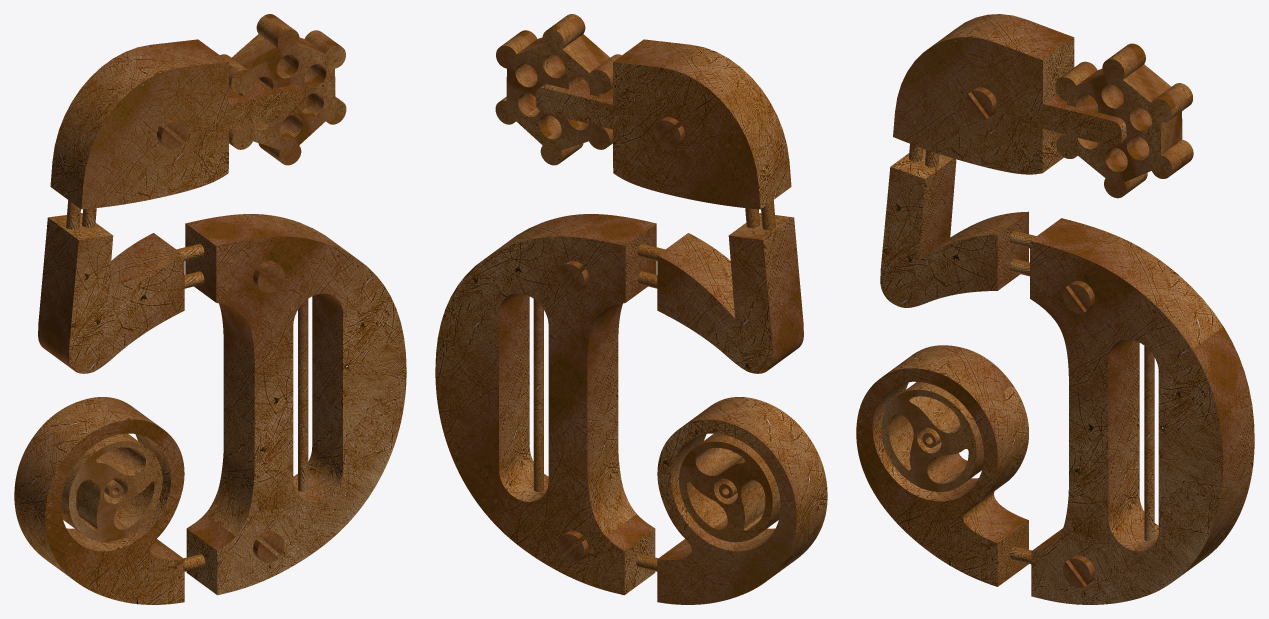
The picture shows the model from 3 angles, left to right: view 1: azimuth 30°, elevation 25°; view 2: azimuth 150°, elevation 25°; view 3: azimuth 330°, elevation 25°; orthographic projection.
Visible parts, largest first — view 1: 019, C_Elements_016, Cogwheel_241, Tube_578, Screw_681, Screw_682, Screw_684; view 2: 019, C_Elements_016, Cogwheel_241, Tube_578, Screw_681, Screw_682, Screw_684; view 3: 019, C_Elements_016, Cogwheel_241, Tube_578, Screw_681, Screw_684, Screw_682.
Part boxes in pixels (bbox=[...]): 019: bbox=[14, 39, 406, 604]; C_Elements_016: bbox=[220, 14, 346, 165]; Cogwheel_241: bbox=[61, 433, 162, 541]; Tube_578: bbox=[298, 299, 308, 491]; Screw_681: bbox=[157, 117, 188, 149]; Screw_682: bbox=[253, 260, 284, 292]; Screw_684: bbox=[253, 530, 284, 562]; 019: bbox=[435, 39, 827, 604]; C_Elements_016: bbox=[495, 14, 621, 165]; Cogwheel_241: bbox=[679, 433, 780, 542]; Tube_578: bbox=[533, 299, 543, 491]; Screw_681: bbox=[653, 117, 684, 149]; Screw_682: bbox=[557, 260, 588, 292]; Screw_684: bbox=[557, 530, 588, 562]; 019: bbox=[856, 14, 1254, 604]; C_Elements_016: bbox=[1055, 43, 1193, 198]; Cogwheel_241: bbox=[881, 382, 983, 491]; Tube_578: bbox=[1144, 346, 1154, 541]; Screw_681: bbox=[965, 87, 997, 119]; Screw_684: bbox=[1063, 555, 1094, 587]; Screw_682: bbox=[1063, 281, 1094, 313].
Size of the model in its own units: 67.49 by 97 by 12.89.
1 material, 1 textured.
